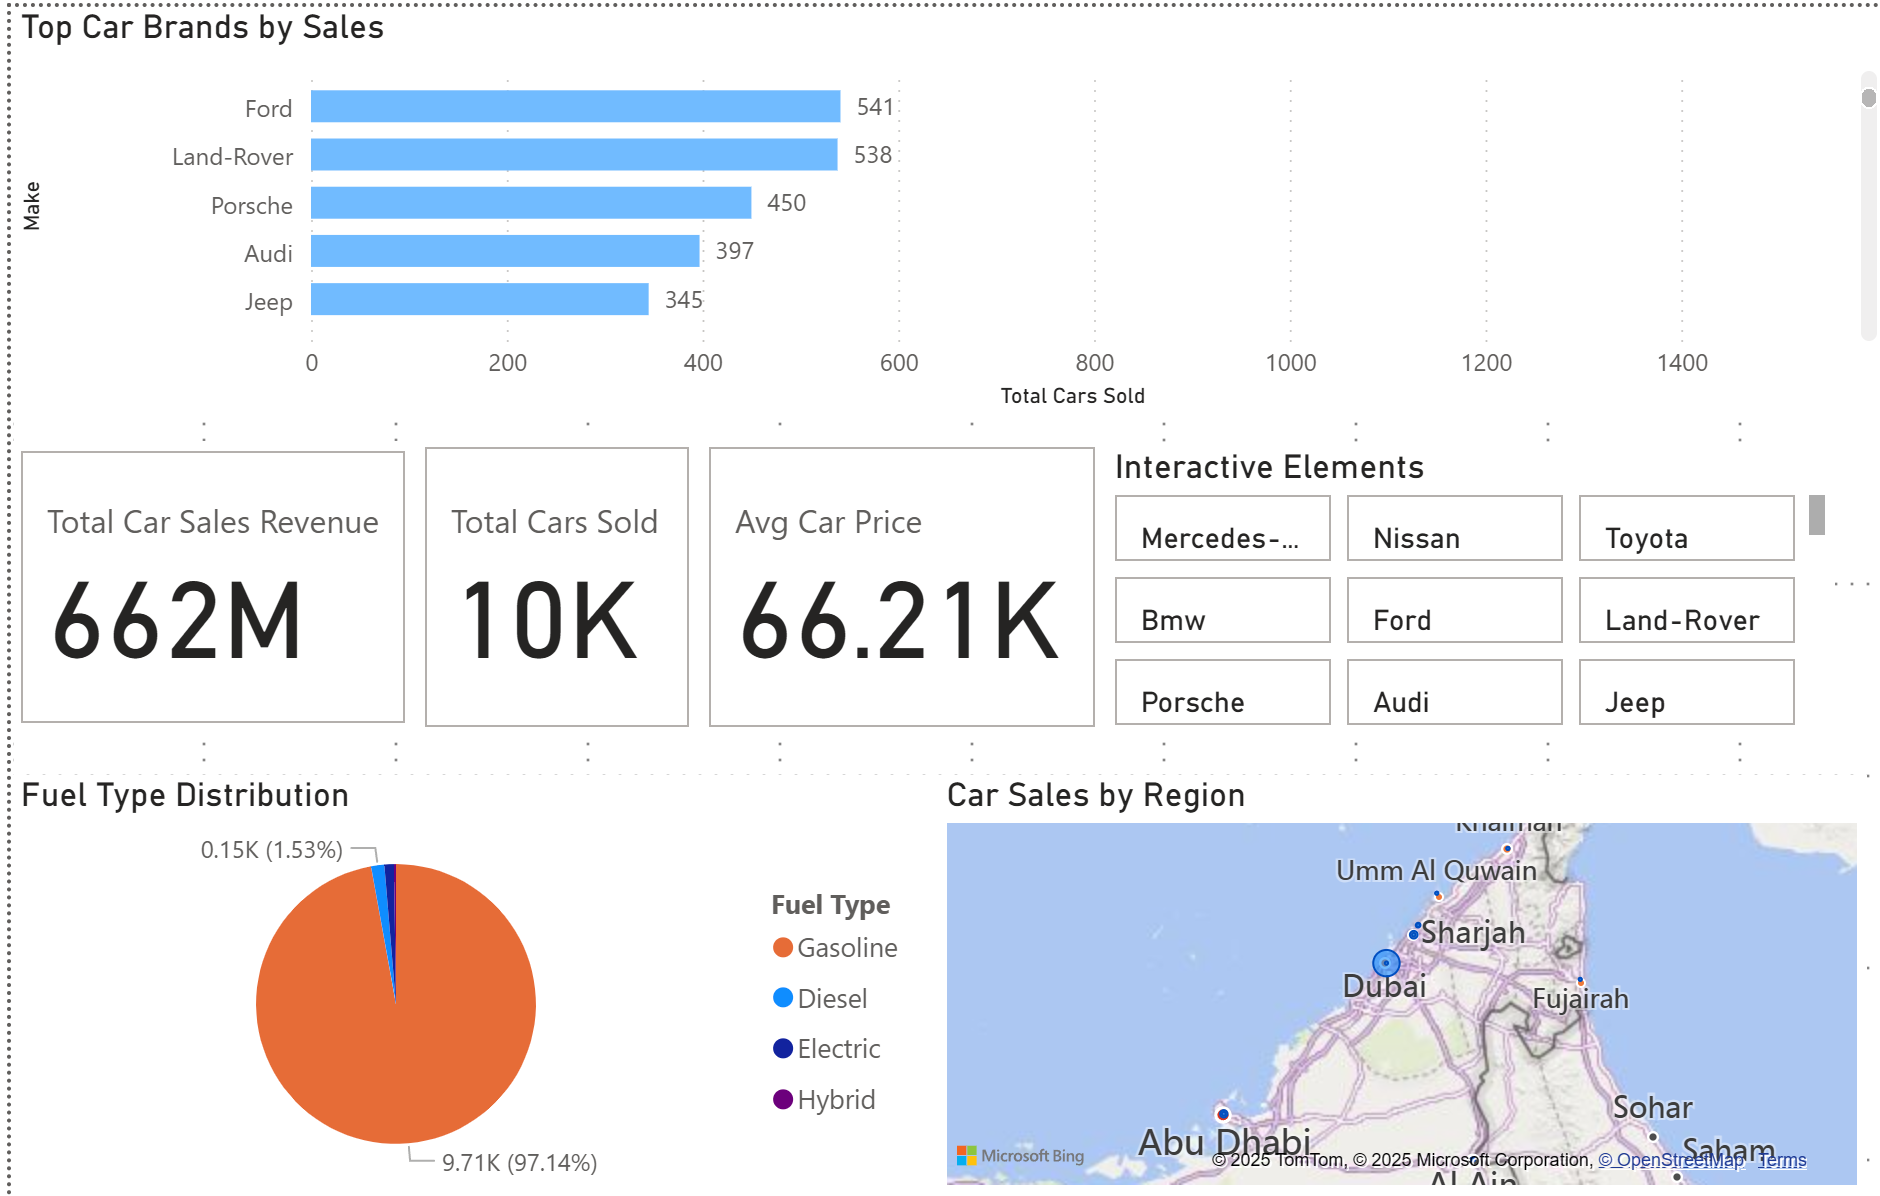

What the dashboard file says about the page in this screenshot:
{"tool":"powerbi","page":{"name":"UAE Used Car Market Overview","canvas":[1280,720],"ordinal":0},"visuals":[{"type":"cardVisual","fields":{"Data":["USED_CARS.Total Cars Sold"]},"box":[202,215,142,150],"z":0},{"type":"cardVisual","fields":{"Data":["USED_CARS.Total Car Sales Revenue"]},"box":[0,217,202,146],"z":1000},{"type":"cardVisual","fields":{"Data":["USED_CARS.Avg Car Price"]},"box":[344,216,248,152],"z":2000},{"type":"barChart","title":"Top Car Brands by Sales","fields":{"Category":["USED_CARS.Make"],"Y":["USED_CARS.Total Cars Sold"]},"box":[0,0,938,205],"z":3000},{"type":"pieChart","title":"Fuel Type Distribution","fields":{"Category":["USED_CARS.Fuel Type"],"Y":["CountNonNull(USED_CARS.Fuel Type)"]},"box":[0,384,463,210],"z":4000},{"type":"map","title":"Car Sales by Region","fields":{"Category":["USED_CARS.Location"],"Size":["Sum(USED_CARS.Price)"]},"box":[463,384,465,210],"z":5000},{"type":"advancedSlicerVisual","title":"Interactive Elements","fields":{"Values":["USED_CARS.Make"]},"box":[592,216,360,144],"z":6002}]}

Visuals, with their boxes on the page's 1280x720 design canvas (x1, y1, x2, y2). These are canvas units, not pixel positions in the 1880x1196 screenshot, which may show the page scaled, cropped or inside an application window:
cardVisual - USED_CARS.Total Cars Sold: <box>202,215,344,365</box>
cardVisual - USED_CARS.Total Car Sales Revenue: <box>0,217,202,363</box>
cardVisual - USED_CARS.Avg Car Price: <box>344,216,592,368</box>
"Top Car Brands by Sales" barChart: <box>0,0,938,205</box>
"Fuel Type Distribution" pieChart: <box>0,384,463,594</box>
"Car Sales by Region" map: <box>463,384,928,594</box>
"Interactive Elements" advancedSlicerVisual: <box>592,216,952,360</box>
